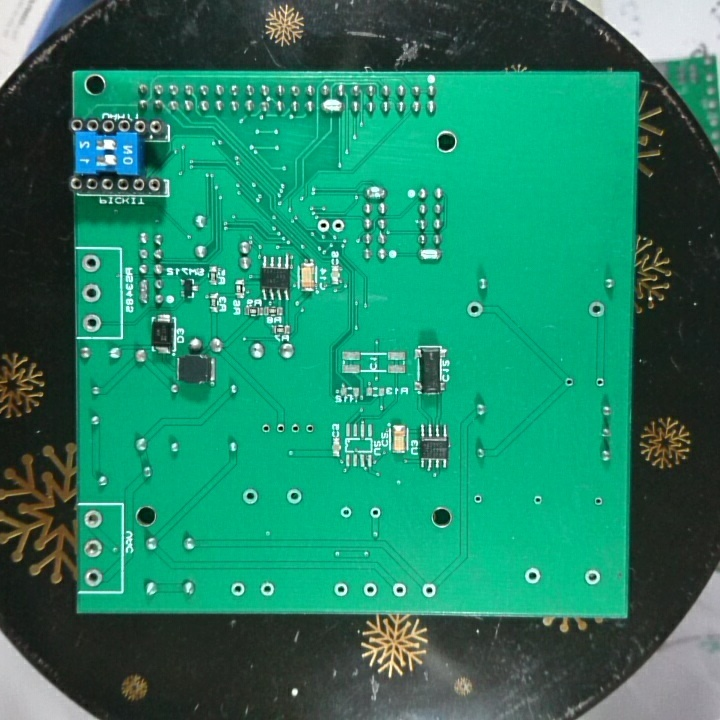F: (79, 280, 104, 305), (80, 310, 104, 335), (521, 563, 546, 587), (79, 252, 102, 275), (82, 538, 105, 560), (81, 566, 104, 588), (464, 298, 486, 319), (82, 509, 104, 530), (418, 580, 440, 601), (582, 567, 603, 589), (238, 486, 261, 506), (359, 579, 380, 600), (228, 580, 250, 600), (388, 580, 410, 600), (586, 299, 606, 320), (331, 580, 351, 600), (258, 580, 277, 601), (284, 486, 303, 506), (330, 216, 346, 235), (301, 420, 317, 439), (314, 217, 331, 234), (366, 503, 382, 521), (337, 504, 353, 520), (288, 420, 302, 437), (259, 420, 274, 435), (591, 494, 607, 508), (531, 492, 545, 508), (274, 420, 287, 437), (593, 374, 606, 390), (471, 491, 484, 507), (562, 375, 575, 390)
P: (135, 277, 151, 307), (319, 98, 345, 116), (417, 246, 442, 264), (362, 184, 388, 200)
